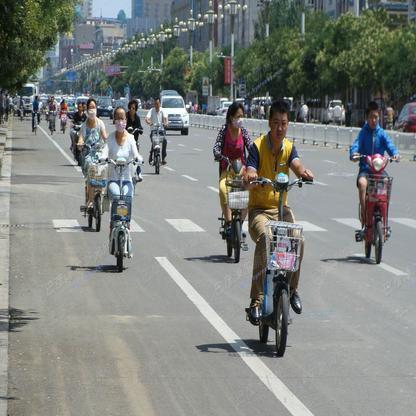target: (246, 102, 315, 357), (349, 101, 401, 263), (213, 103, 253, 263), (100, 107, 139, 270)
